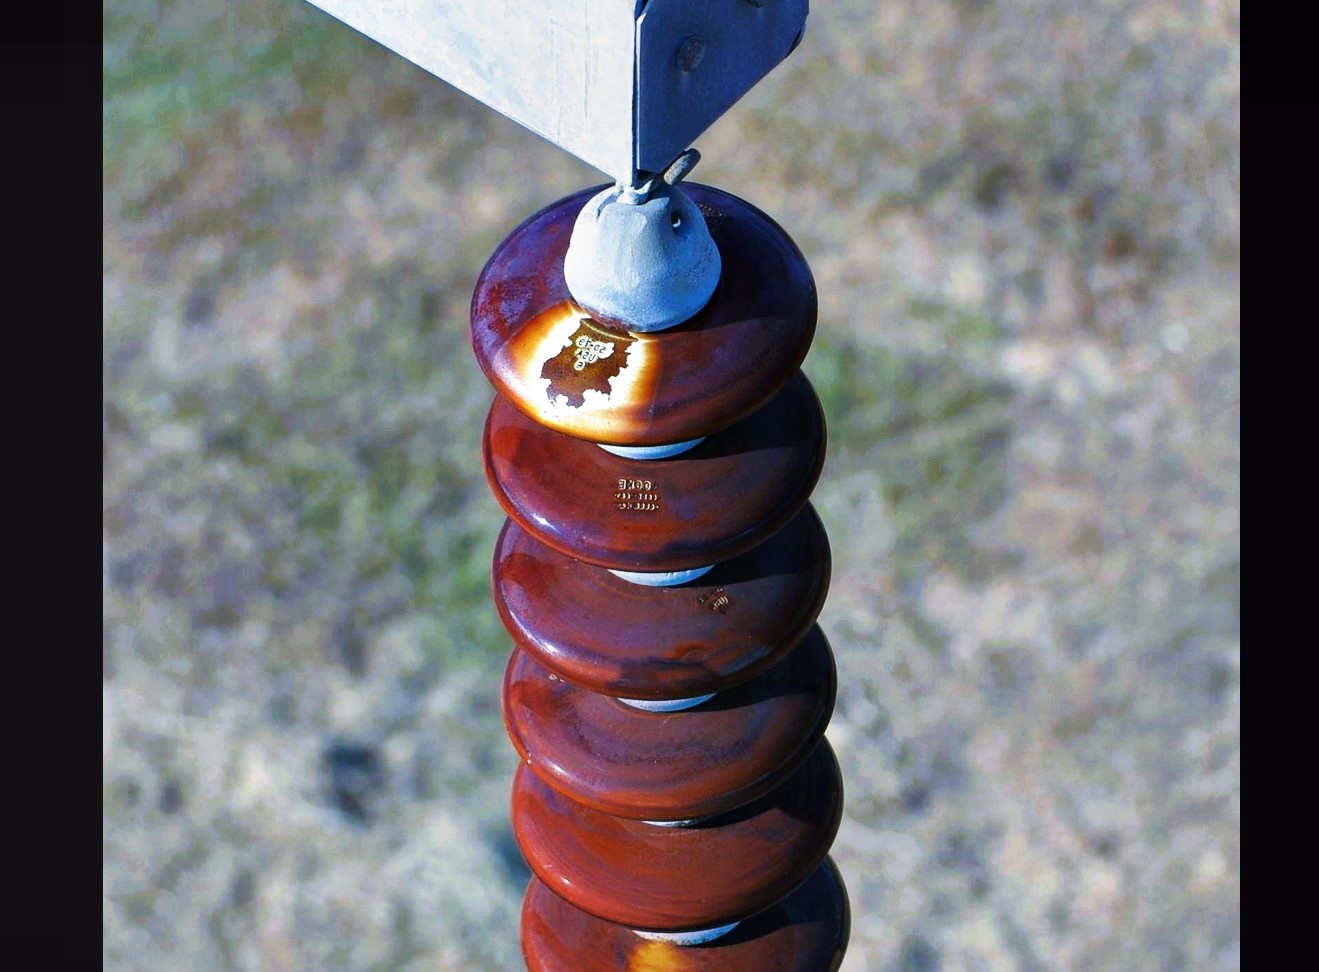Insulator flashover: (445, 165, 840, 459)
